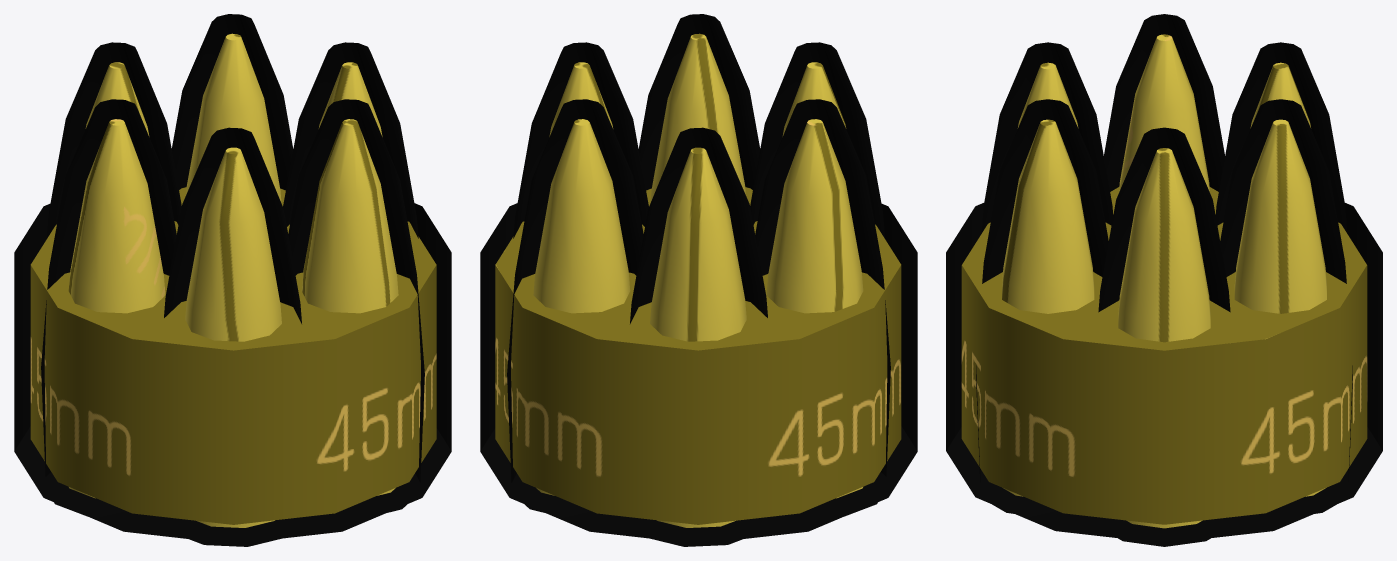
Rendered from 45mm_ammo.fbx.
3 renders of one model, left to right at view 1: azimuth 30°, elevation 25°; view 2: azimuth 150°, elevation 25°; view 3: azimuth 270°, elevation 25°, orthographic.
Visible parts, largest first — view 1: pCylinder26 (×2); view 2: pCylinder26 (×2); view 3: pCylinder26 (×2).
Boxes of the visible parts, bbox=[...] form: pCylinder26 (×2): bbox=[14, 14, 451, 546]; pCylinder26 (×2): bbox=[480, 14, 917, 546]; pCylinder26 (×2): bbox=[946, 14, 1382, 546].
Size of the model in its own units: 9.26 by 9.16 by 9.26.
